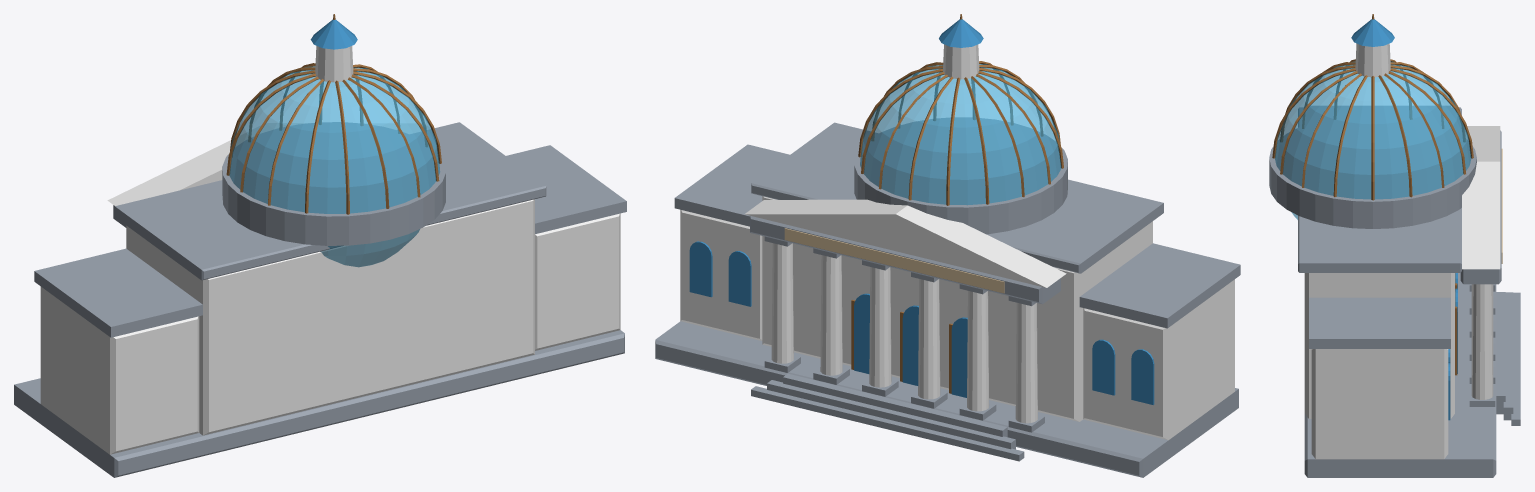
Rendered from GRAND_AQUARIUM.glb.
3 renders of one model, left to right at view 1: azimuth 30°, elevation 25°; view 2: azimuth 150°, elevation 25°; view 3: azimuth 270°, elevation 25°, orthographic. The views are drawn at different scales.
Visible parts, largest first — view 1: PropWhite, Stone, Water, Wood, PropBlue; view 2: Stone, PropWhite, Water, PropBlue, Wood, SignFace; view 3: Stone, PropWhite, Water, Wood, PropBlue.
Boxes of the visible parts, x1,y1,x2,y2 form: PropWhite: (40, 46, 620, 454); Stone: (14, 122, 626, 477); Water: (229, 66, 439, 267); Wood: (226, 14, 441, 214); PropBlue: (310, 19, 357, 49); Stone: (655, 117, 1240, 477); PropWhite: (680, 44, 1234, 440); Water: (860, 64, 1061, 205); PropBlue: (689, 19, 1154, 404); Wood: (851, 14, 1063, 393); SignFace: (784, 228, 1004, 293); Stone: (1269, 106, 1520, 477); PropWhite: (1304, 43, 1500, 459); Water: (1275, 61, 1471, 219); Wood: (1272, 14, 1473, 375); PropBlue: (1351, 19, 1457, 420).
Size of the model in its own units: 40.4 by 28.1 by 18.4.
